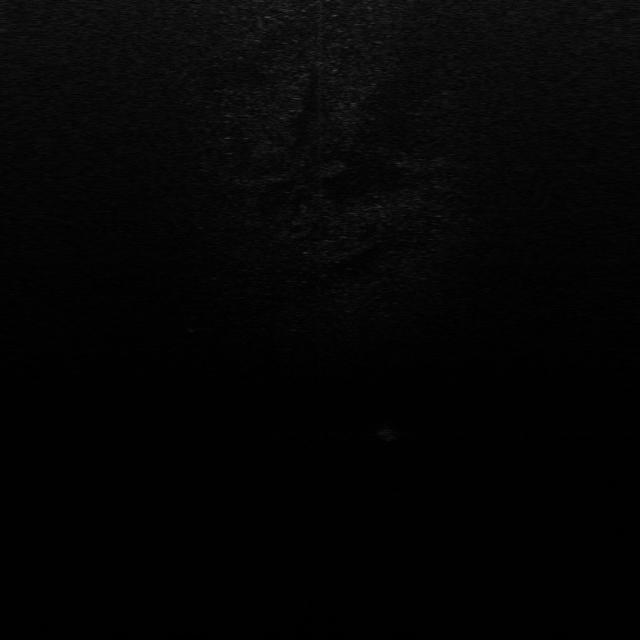ball: (371, 421, 403, 441)
circle cage: (182, 314, 204, 332)
